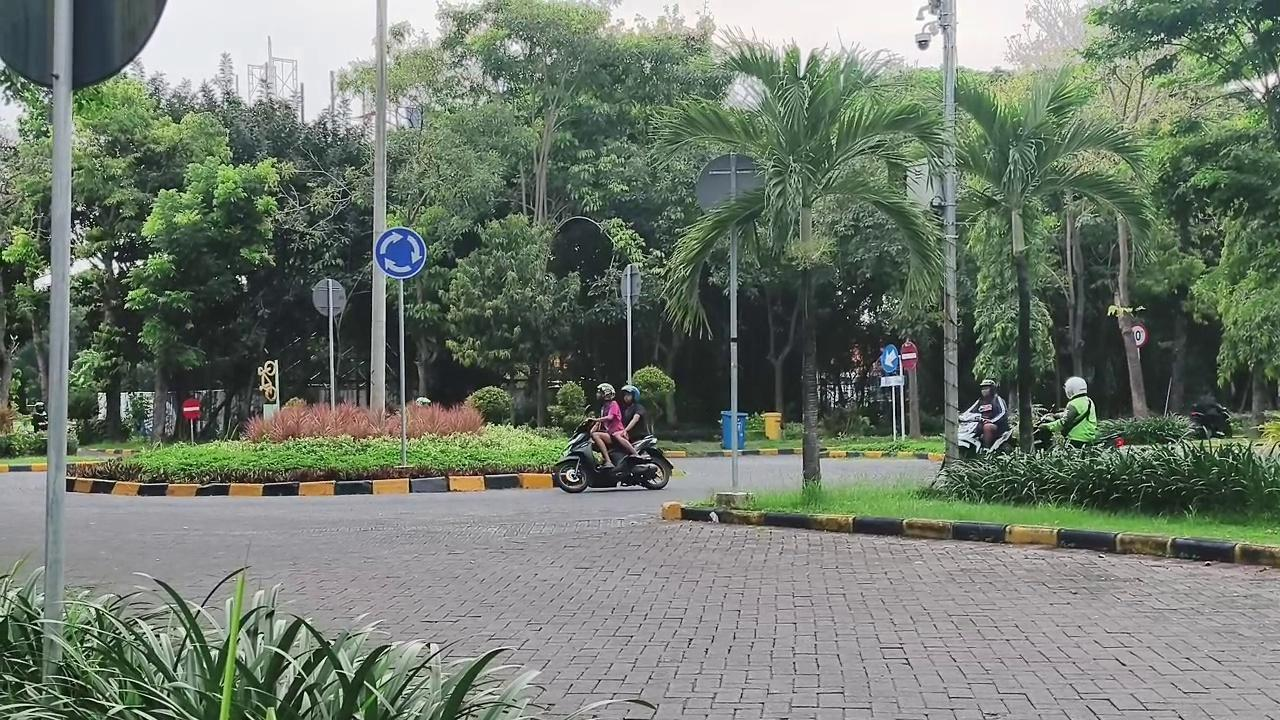Helmet: (591, 383, 634, 468), (1045, 376, 1097, 446), (966, 379, 1008, 447), (615, 385, 648, 453)
Motor: (553, 421, 673, 493), (957, 413, 1012, 458), (1183, 406, 1231, 439), (1033, 408, 1065, 451)
